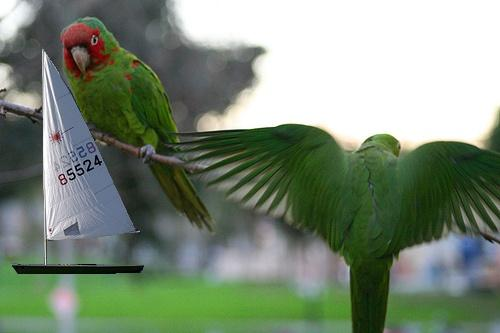tampered: (12, 48, 144, 274)
